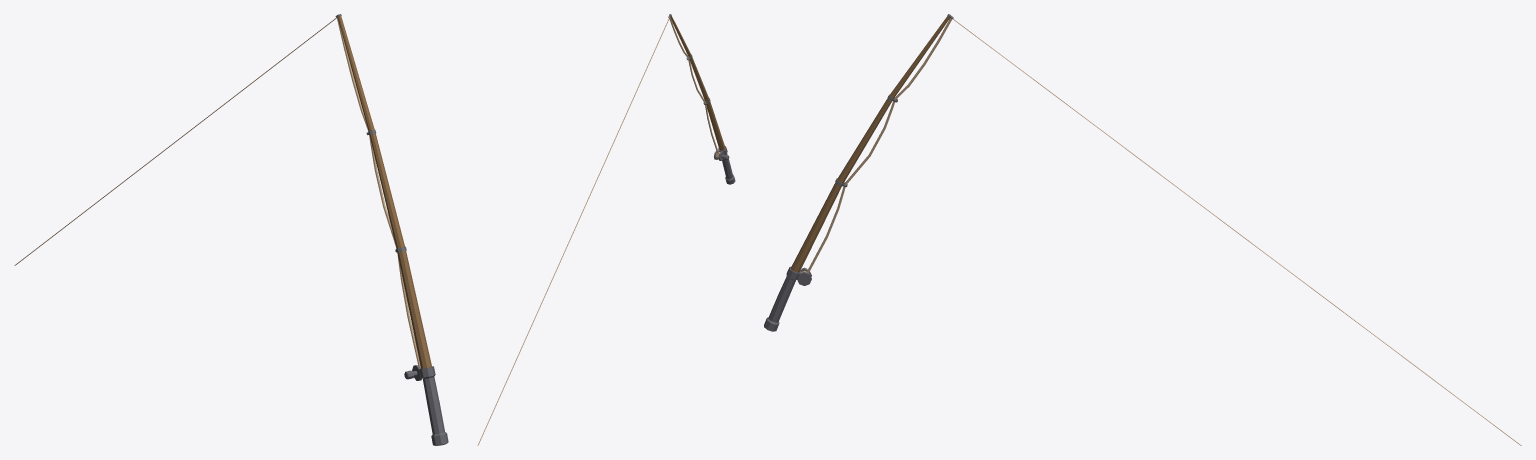
The model's file is FishingRod_02.fbx.
3 renders of one model, left to right at view 1: azimuth 30°, elevation 25°; view 2: azimuth 150°, elevation 25°; view 3: azimuth 270°, elevation 25°, orthographic. The views are drawn at different scales.
Visible parts, largest first — view 1: FishingRod_02_LOD0; view 2: FishingRod_02_LOD0; view 3: FishingRod_02_LOD0.
Part boxes in pixels (bbox=[...]): FishingRod_02_LOD0: bbox=[14, 14, 448, 445]; FishingRod_02_LOD0: bbox=[477, 14, 735, 445]; FishingRod_02_LOD0: bbox=[764, 14, 1521, 445].
Size of what is drawn, in the model's own units: 0.0858 by 1.84 by 2.92.
